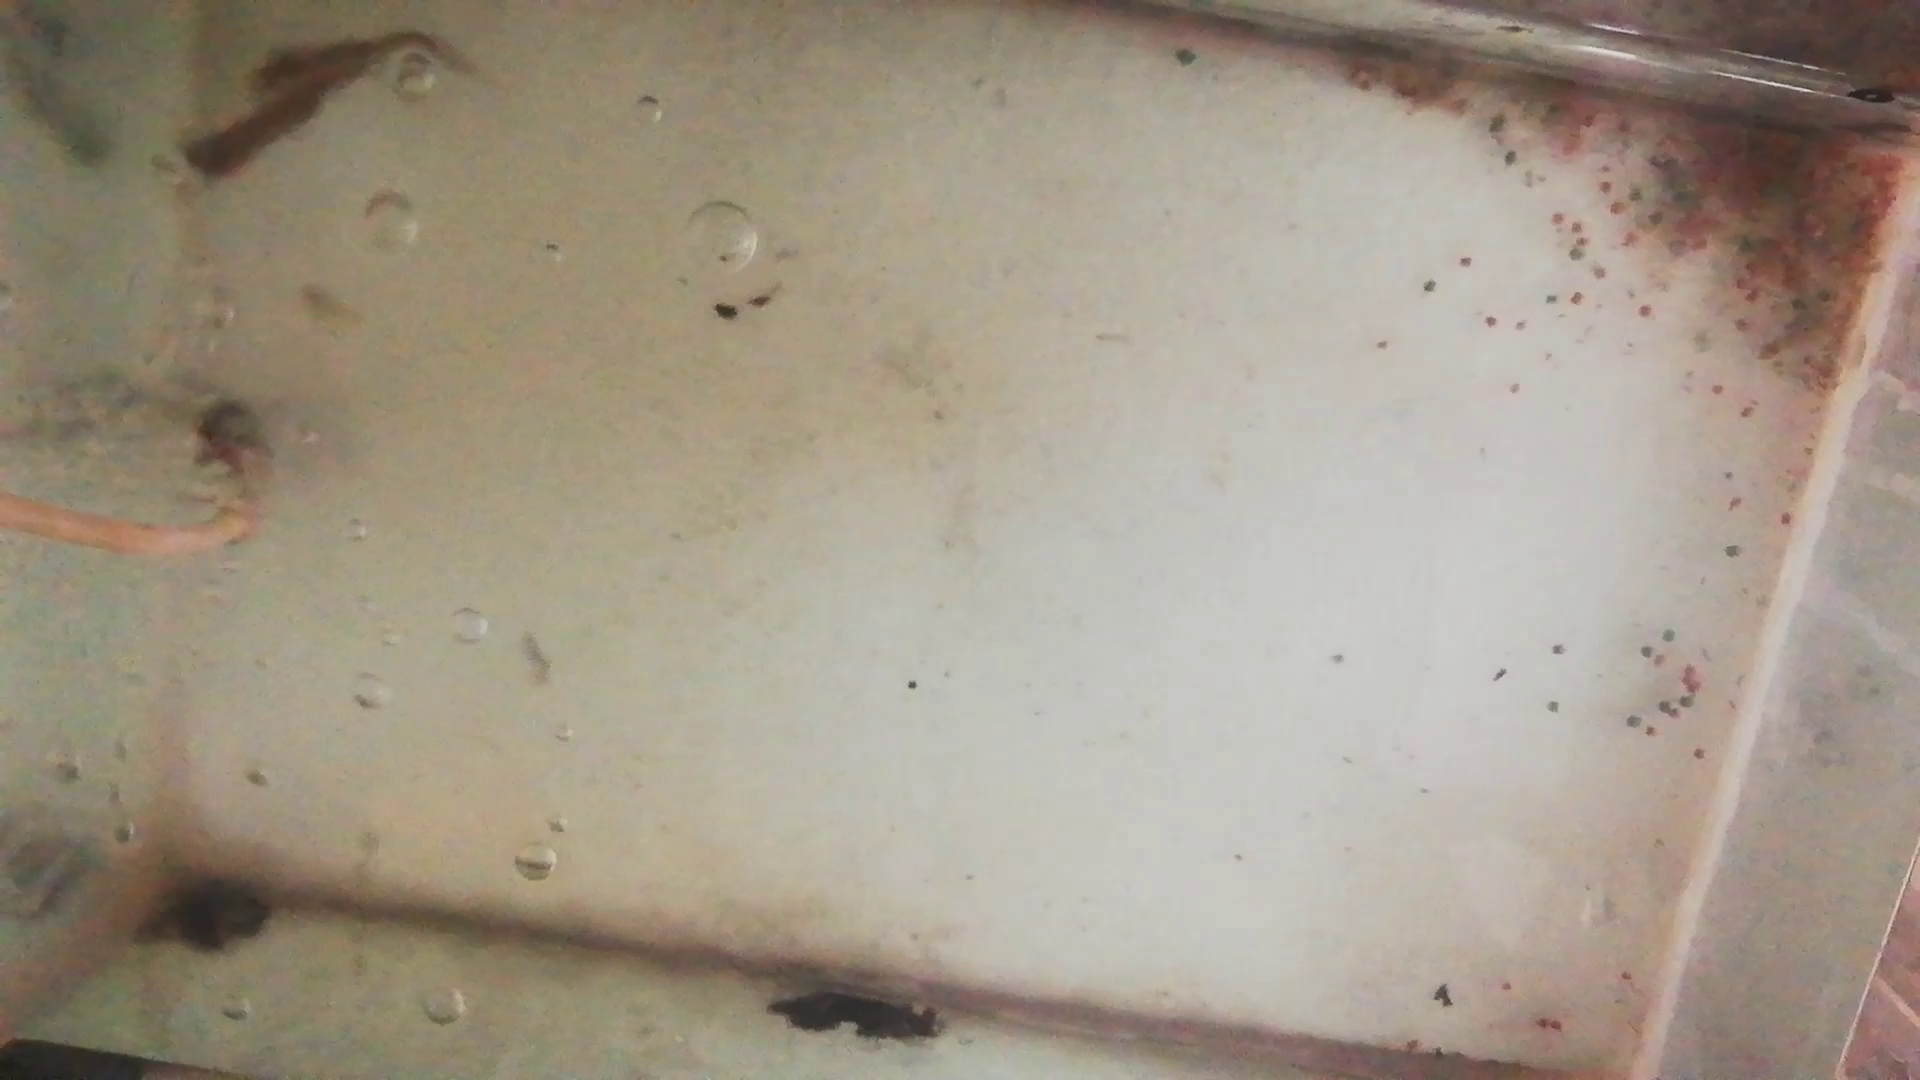fish: (181, 73, 375, 179), (247, 32, 442, 94)
